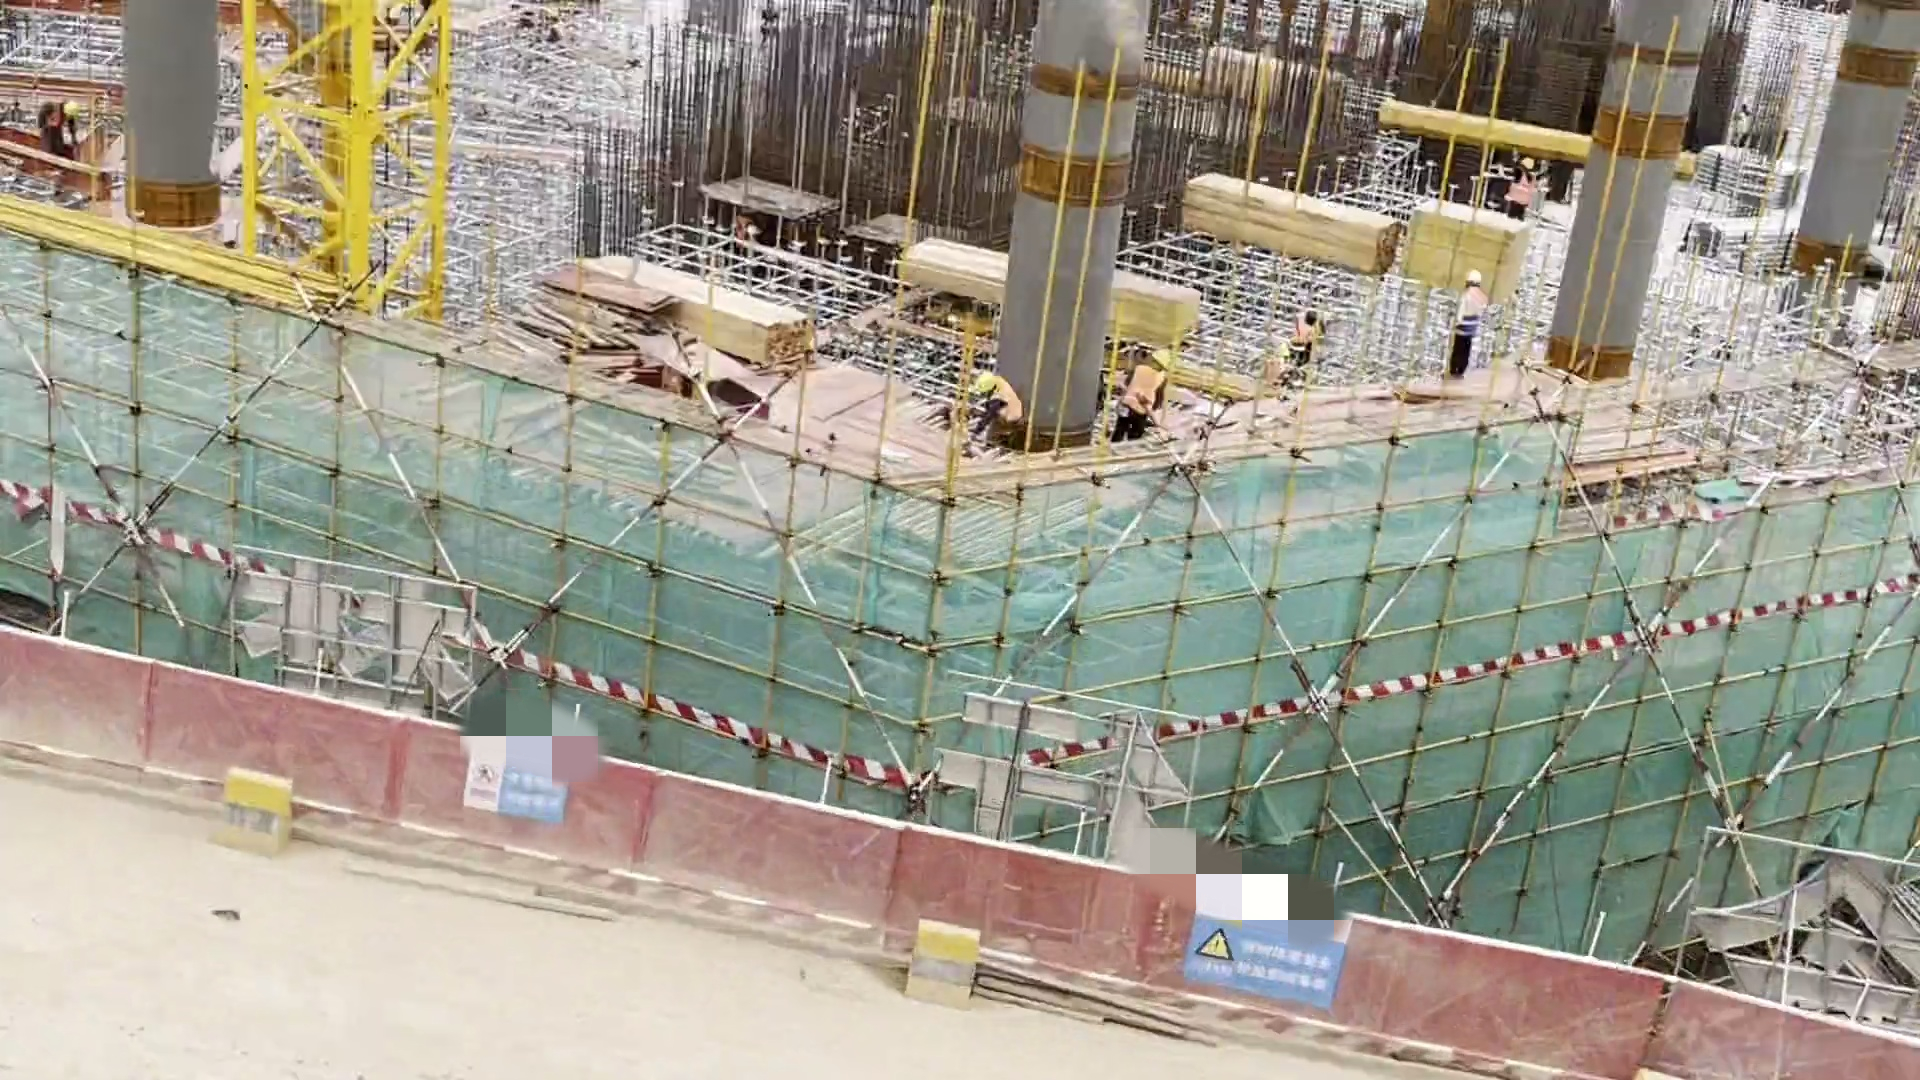helmet: (976, 372, 1001, 394), (1468, 261, 1484, 289), (64, 96, 81, 120), (1154, 349, 1173, 368), (1521, 155, 1538, 174)
person: (30, 87, 104, 188), (1445, 263, 1491, 381), (1123, 343, 1171, 453), (968, 368, 1029, 445), (1505, 147, 1542, 224), (1289, 306, 1326, 367)
vest: (1125, 362, 1162, 419), (1451, 289, 1484, 339), (991, 377, 1023, 426), (1514, 164, 1538, 213), (1293, 315, 1324, 349), (42, 101, 72, 130)
